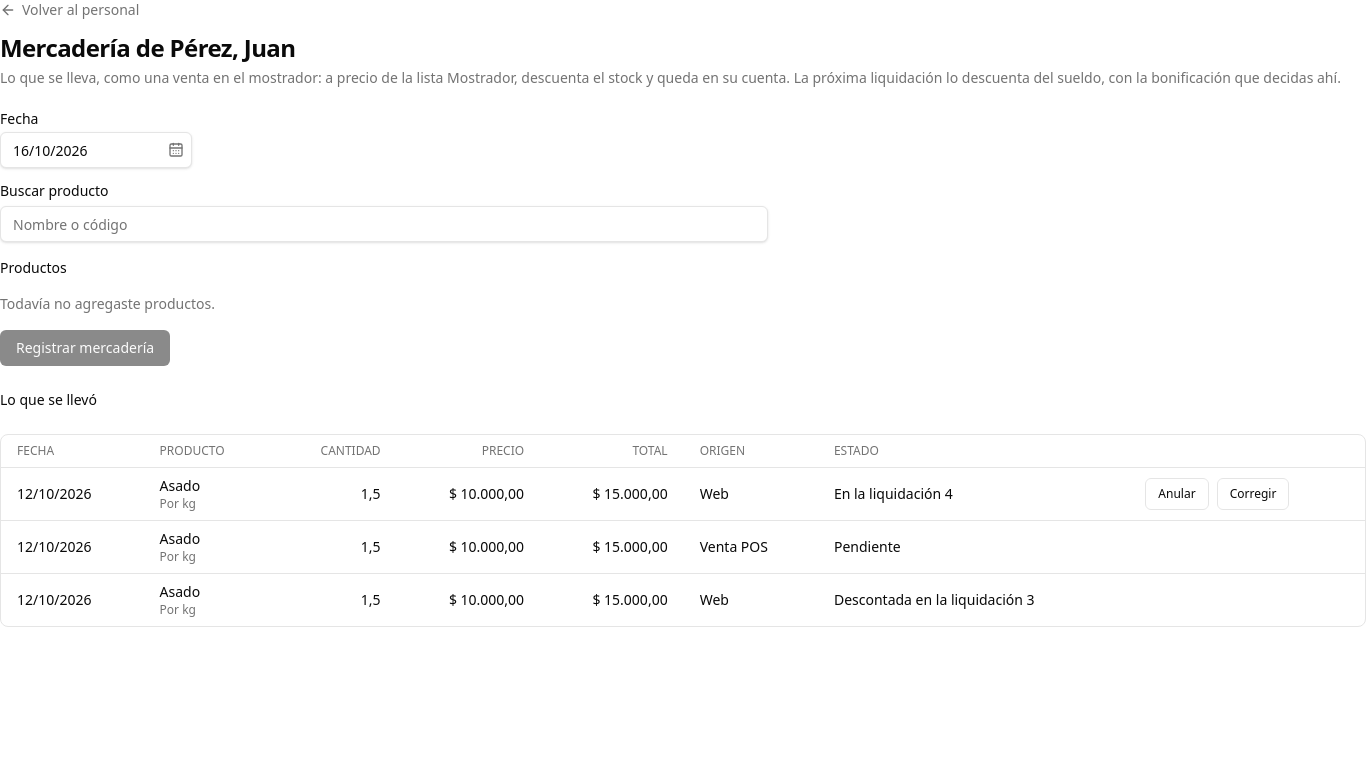
Test: EmployeeGoodsPage › voiding and correcting a registration › explains why goods a paid payroll settled cannot be voided, and offers no action for them nor for a POS sale
Click the button with aria-label "Anular la carga". click: (1177, 494)
box: left=1145, top=478, right=1209, bottom=510
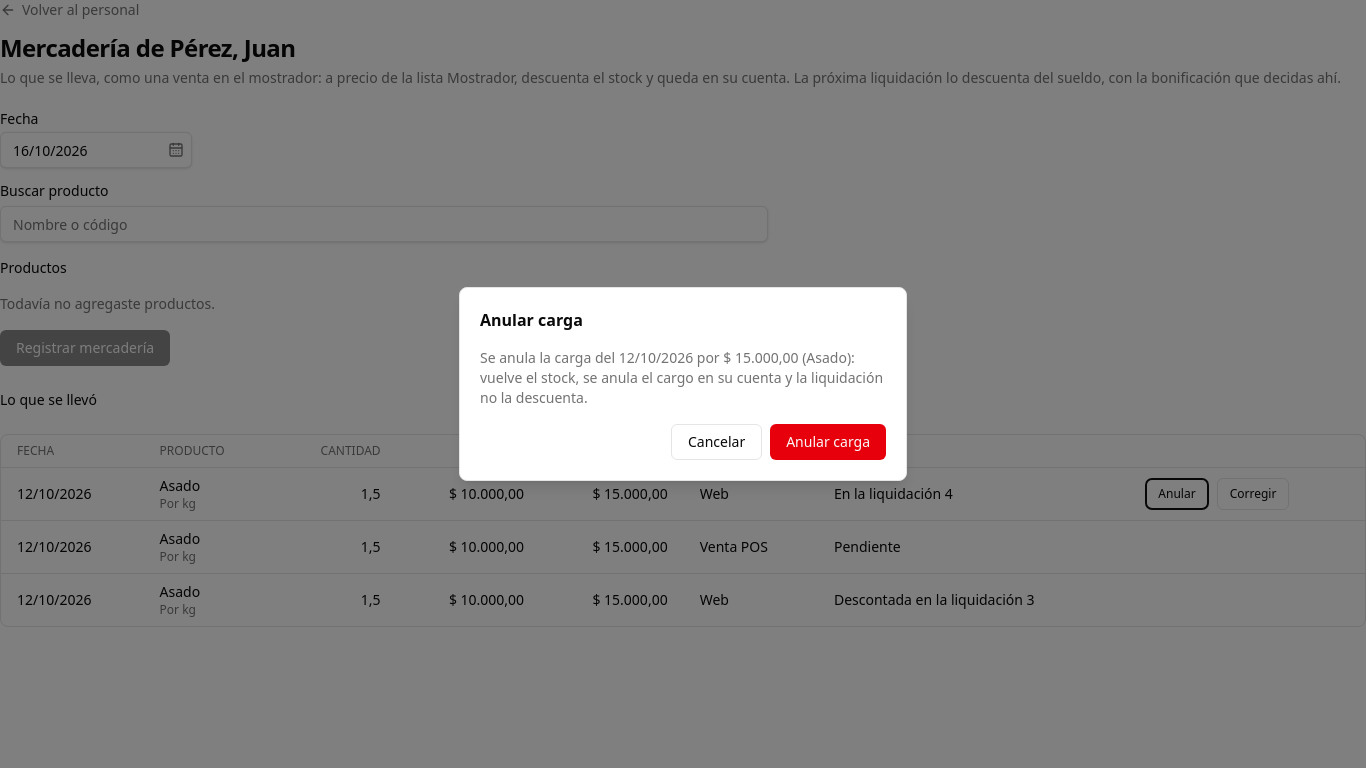
Click the button "Anular carga". click: (828, 442)
box: left=770, top=424, right=886, bottom=460
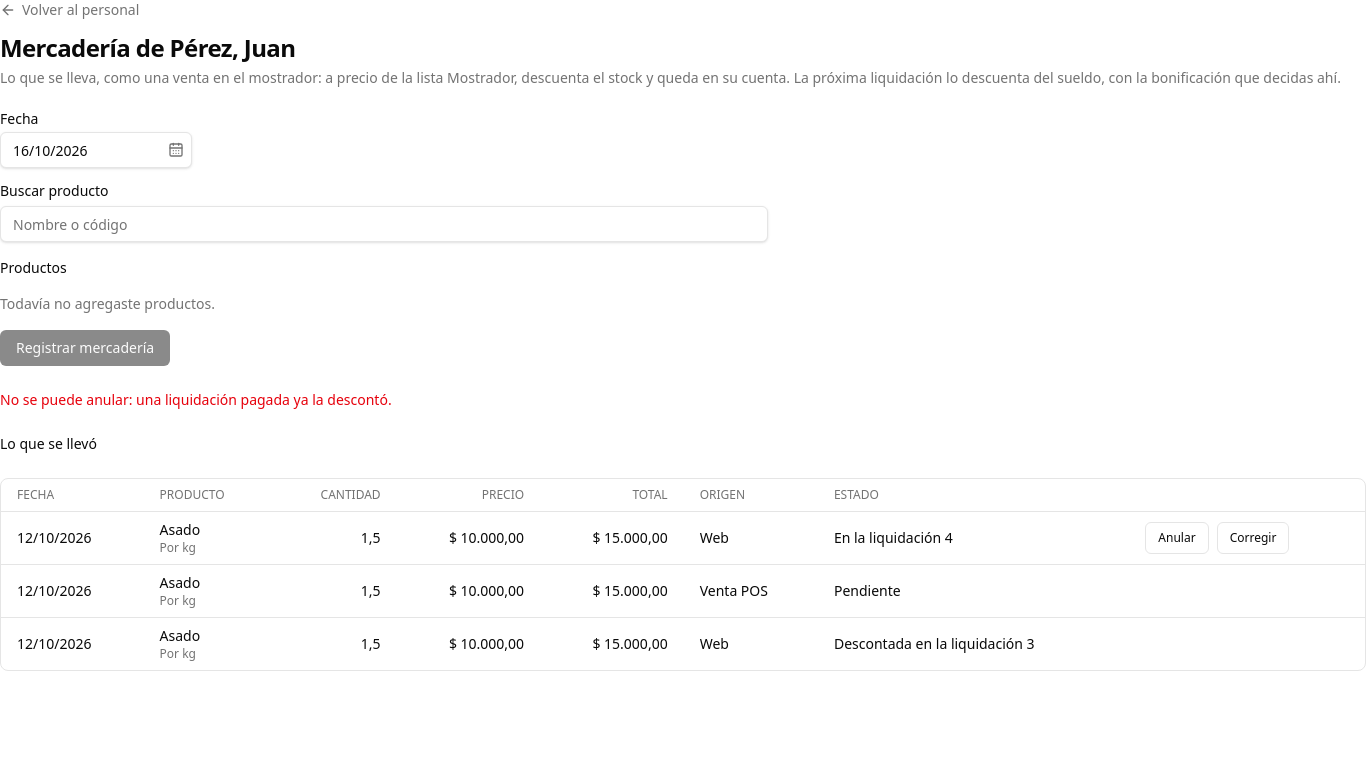
Expected: the text "No se puede anular: una liquidación pagada ya la descontó." is shown, left=0, top=390, right=392, bottom=409
